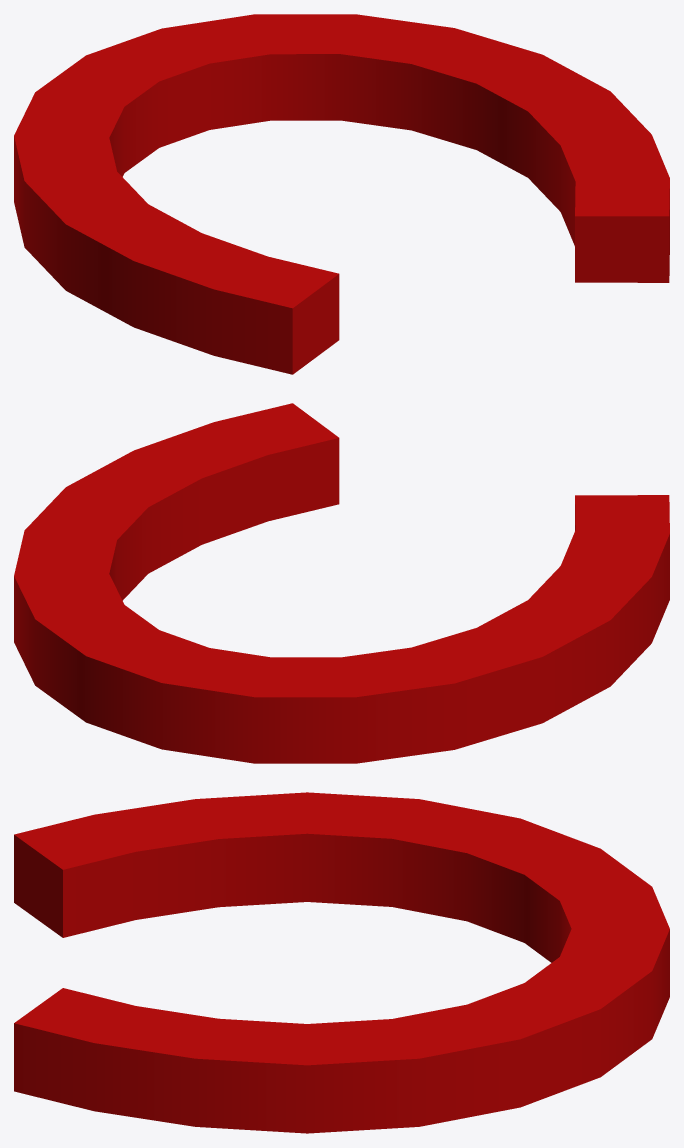
File: Magnet.fbx
The picture shows the model from 3 angles, top to bottom: view 1: azimuth 30°, elevation 25°; view 2: azimuth 150°, elevation 25°; view 3: azimuth 270°, elevation 25°; orthographic projection. The views are drawn at different scales.
Parts seen in each view (by area): view 1: pPipe1; view 2: pPipe1; view 3: pPipe1.
Boxes of the visible parts, bbox=[...] form: pPipe1: bbox=[14, 14, 669, 374]; pPipe1: bbox=[14, 403, 669, 763]; pPipe1: bbox=[14, 792, 669, 1133].
Size of the model in its own units: 2 by 0.233 by 2.03.
